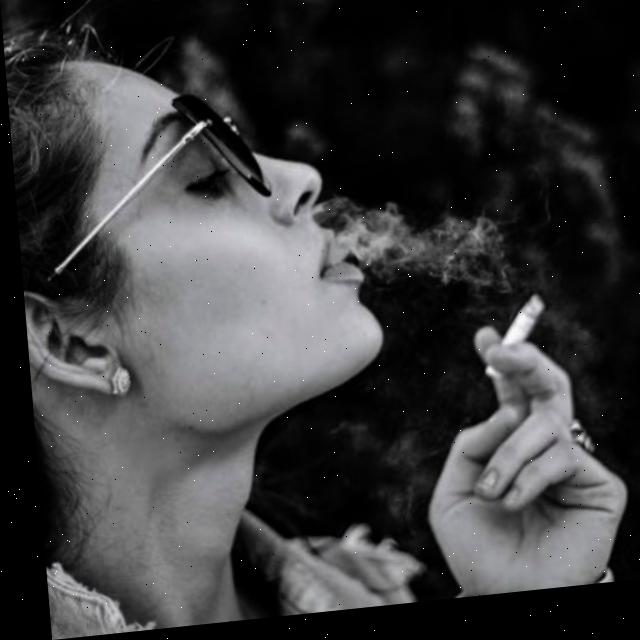cigarette: (471, 304, 544, 391)
